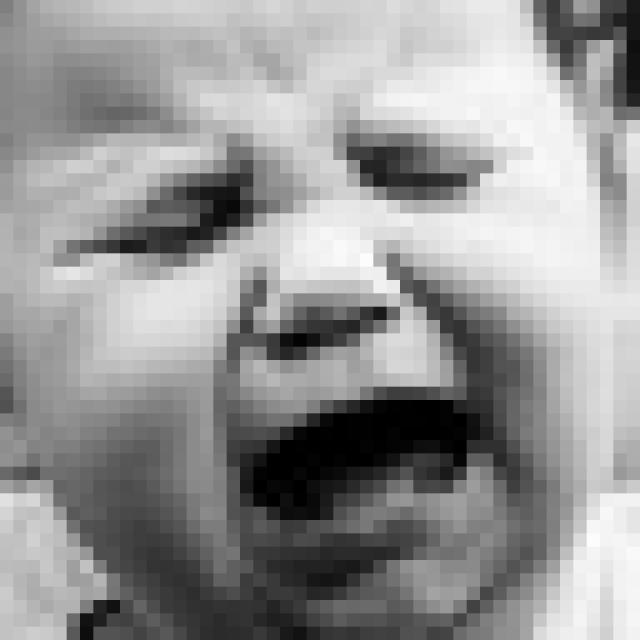sad: (37, 82, 542, 603)
